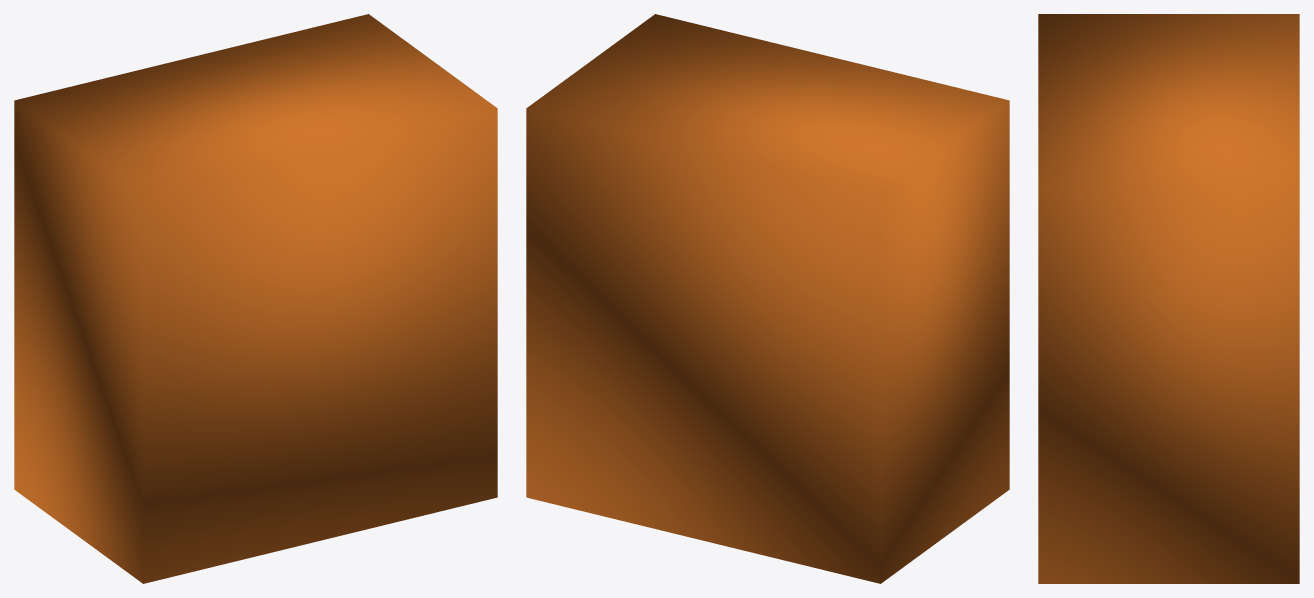
The model's file is orangesiren.obj.
3 renders of one model, left to right at view 1: azimuth 30°, elevation 25°; view 2: azimuth 150°, elevation 25°; view 3: azimuth 270°, elevation 25°, orthographic.
Size of the model in its own units: 13.08 by 13.74 by 8.24.
